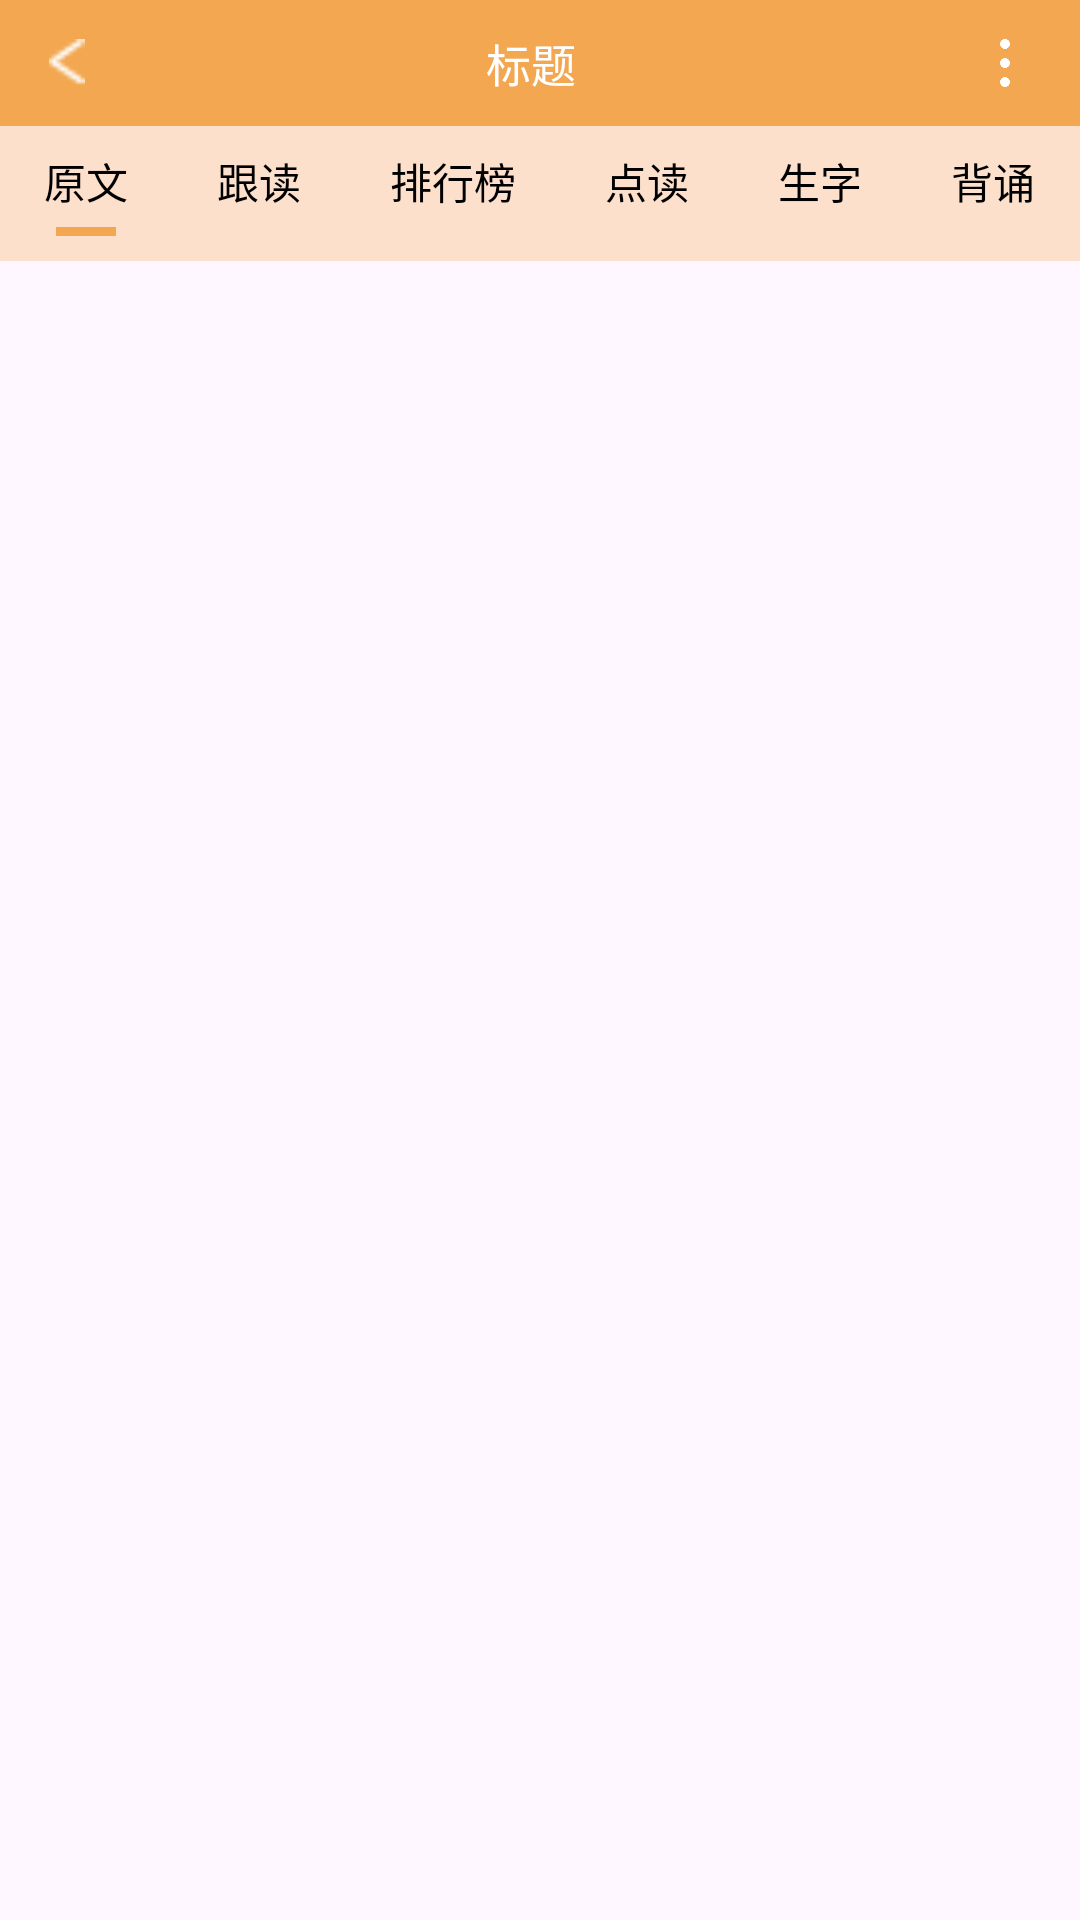

Where icons sit on this 1080w x 1920h app screen, as bbox(x1, y1, x2, y2):
back: bbox(49, 39, 85, 84)
more: bbox(1000, 39, 1010, 87)
